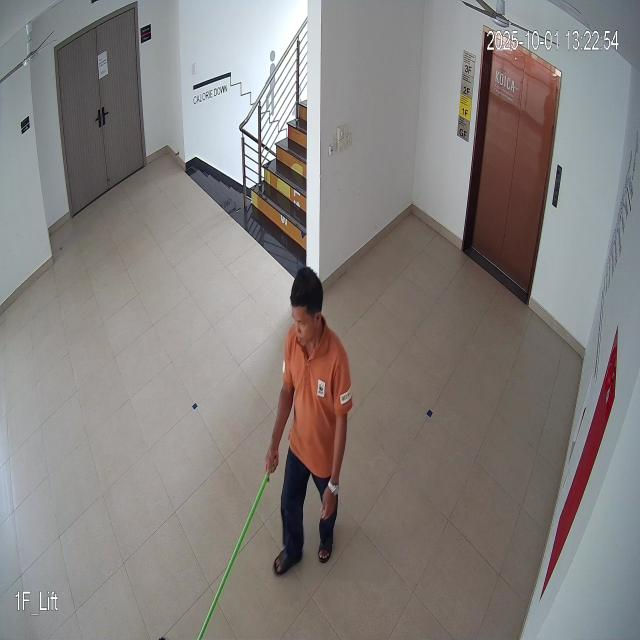face: (288, 256, 325, 358)
